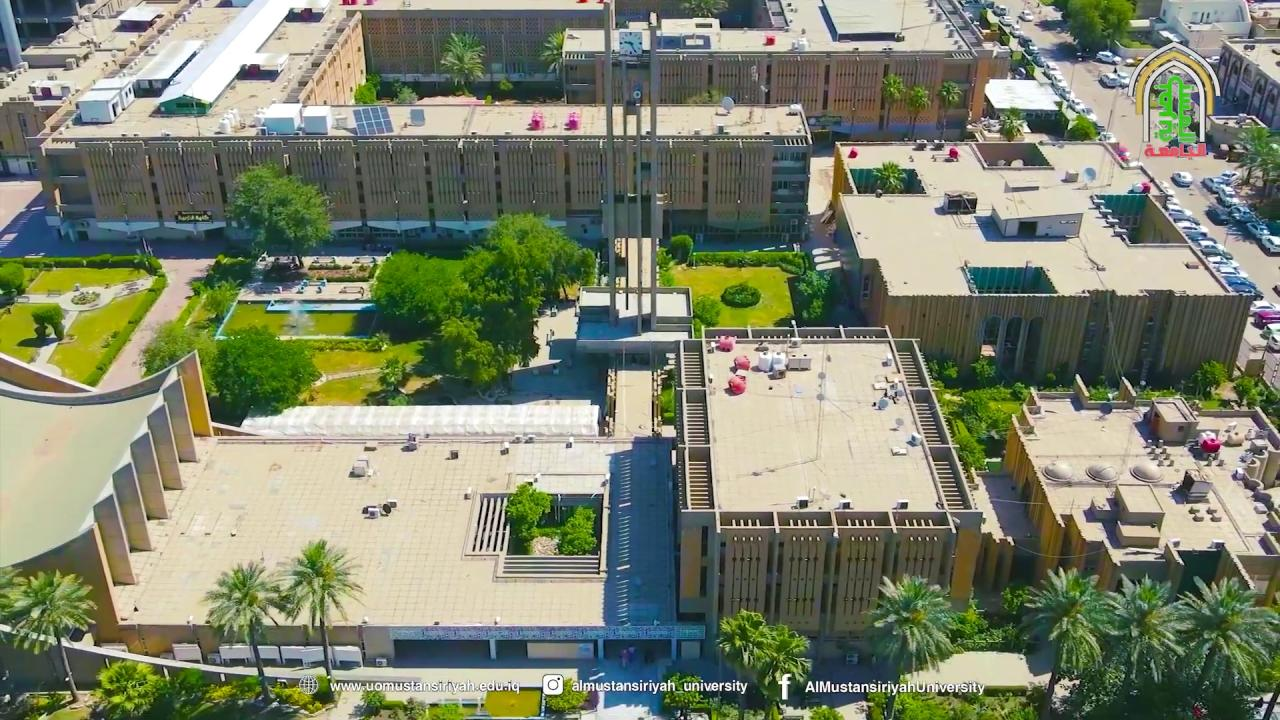car: (1207, 207, 1234, 227), (1251, 300, 1280, 318), (1234, 285, 1266, 301), (1177, 220, 1210, 235), (1195, 240, 1227, 255), (1257, 237, 1280, 257), (1166, 204, 1193, 221), (1231, 204, 1253, 224), (1203, 171, 1225, 191), (1225, 273, 1254, 287), (1218, 266, 1251, 278), (1206, 255, 1238, 267), (1217, 184, 1236, 204), (1247, 223, 1271, 238), (1171, 171, 1193, 187), (1096, 50, 1121, 64), (1255, 310, 1280, 324), (1158, 30, 1182, 44), (1188, 233, 1218, 243), (1263, 321, 1280, 338), (1102, 73, 1118, 88), (1080, 107, 1097, 121), (1265, 336, 1280, 350), (1094, 124, 1107, 137), (1060, 88, 1074, 100), (1052, 78, 1066, 90), (1068, 100, 1083, 110)
fountain: (213, 294, 378, 341)
person: (619, 647, 630, 668)
tree: (369, 209, 598, 390), (1166, 574, 1279, 719), (1017, 564, 1114, 718), (463, 209, 597, 316), (1093, 572, 1186, 718), (0, 567, 98, 703), (274, 537, 366, 681), (199, 560, 284, 704), (205, 322, 321, 423), (862, 571, 961, 684), (224, 162, 334, 263), (715, 608, 811, 719), (437, 304, 539, 391), (370, 248, 468, 327), (136, 317, 219, 399), (225, 163, 280, 252), (89, 657, 169, 718), (436, 313, 497, 386), (1063, 0, 1134, 53), (503, 481, 552, 554), (1234, 124, 1279, 198), (537, 27, 580, 103), (439, 31, 485, 95), (948, 418, 988, 481), (662, 671, 710, 719), (556, 504, 596, 555), (542, 675, 588, 716), (795, 268, 830, 319), (200, 278, 240, 322), (1186, 358, 1228, 399), (936, 79, 961, 141), (538, 27, 566, 80), (902, 84, 928, 140), (880, 72, 904, 129), (30, 302, 65, 341), (871, 160, 906, 194), (376, 354, 408, 391), (720, 281, 761, 307), (691, 294, 721, 329), (997, 106, 1025, 141), (1231, 375, 1260, 408), (1064, 113, 1097, 141), (678, 0, 729, 18), (655, 245, 676, 287), (970, 355, 996, 388), (0, 261, 25, 294), (668, 233, 694, 264), (359, 688, 385, 717), (391, 78, 417, 103), (808, 704, 844, 720), (352, 81, 377, 104), (497, 76, 513, 100)
